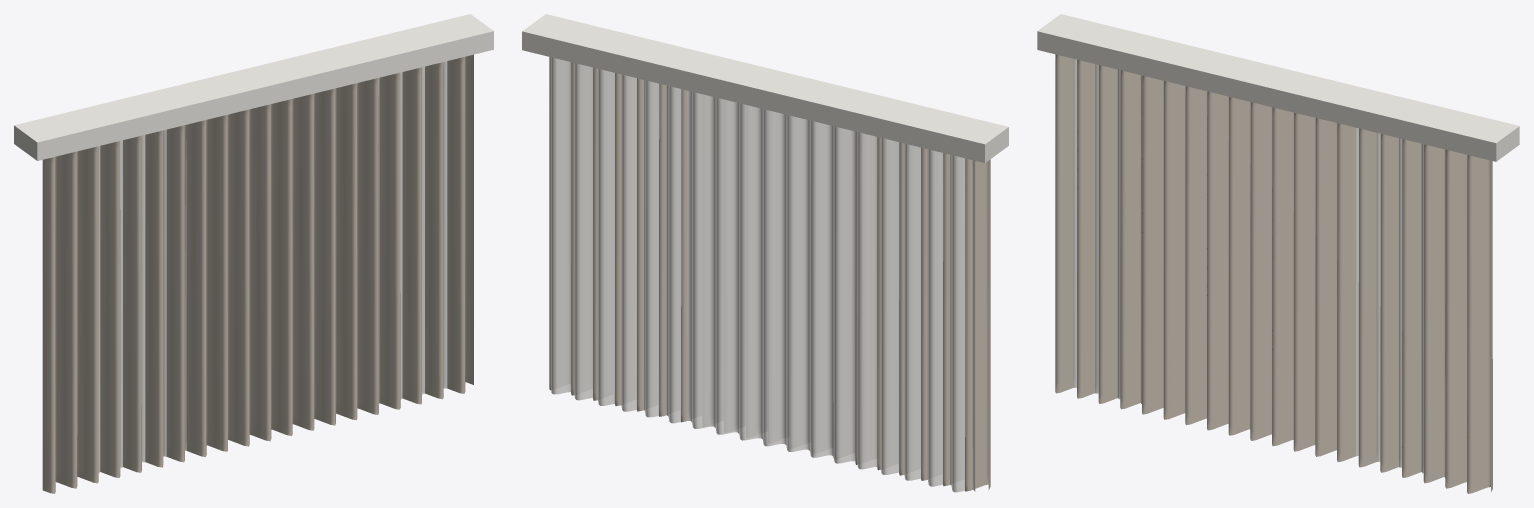
Rendered from curtain-sfold-luxury.glb.
The picture shows the model from 3 angles, left to right: view 1: azimuth 30°, elevation 25°; view 2: azimuth 150°, elevation 25°; view 3: azimuth 330°, elevation 25°; orthographic projection.
Parts seen in each view (by area): view 1: OuterDrapeRight, OuterDrapeLeft, CeilingPelmetBox, InnerEmbroideredLeafSheer; view 2: InnerEmbroideredLeafSheer, CeilingPelmetBox, OuterDrapeLeft, OuterDrapeRight; view 3: OuterDrapeRight, OuterDrapeLeft, CeilingPelmetBox, InnerEmbroideredLeafSheer.
Part boxes in pixels (x1,y1,x2,y2): OuterDrapeRight: (258, 54, 473, 441); OuterDrapeLeft: (42, 107, 258, 493); CeilingPelmetBox: (14, 14, 493, 160); InnerEmbroideredLeafSheer: (77, 61, 447, 473); InnerEmbroideredLeafSheer: (551, 57, 975, 492); CeilingPelmetBox: (522, 14, 1008, 162); OuterDrapeLeft: (833, 131, 990, 491); OuterDrapeRight: (549, 57, 687, 422); OuterDrapeRight: (1272, 107, 1492, 493); OuterDrapeLeft: (1055, 54, 1272, 440); CeilingPelmetBox: (1037, 14, 1519, 161); InnerEmbroideredLeafSheer: (1073, 59, 1445, 477).
Size of the model in its own units: 3.6 by 2.68 by 0.32.
